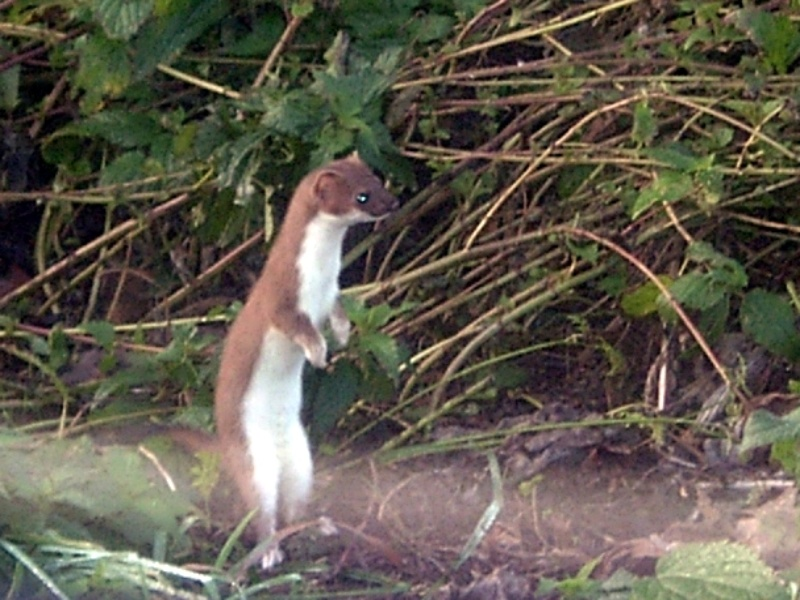minkish: (175, 148, 404, 575)
